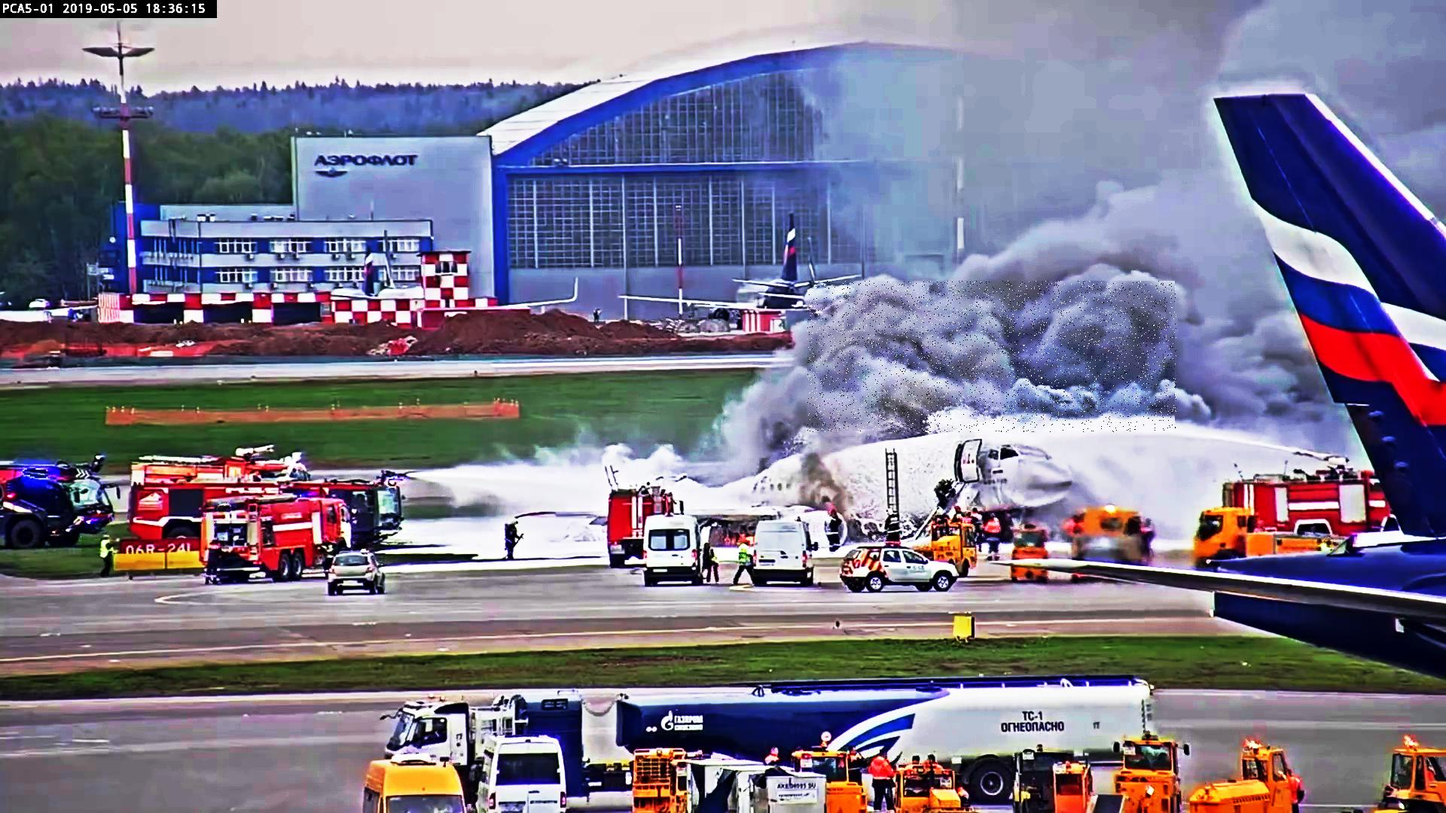smoke: (808, 281, 1177, 432)
